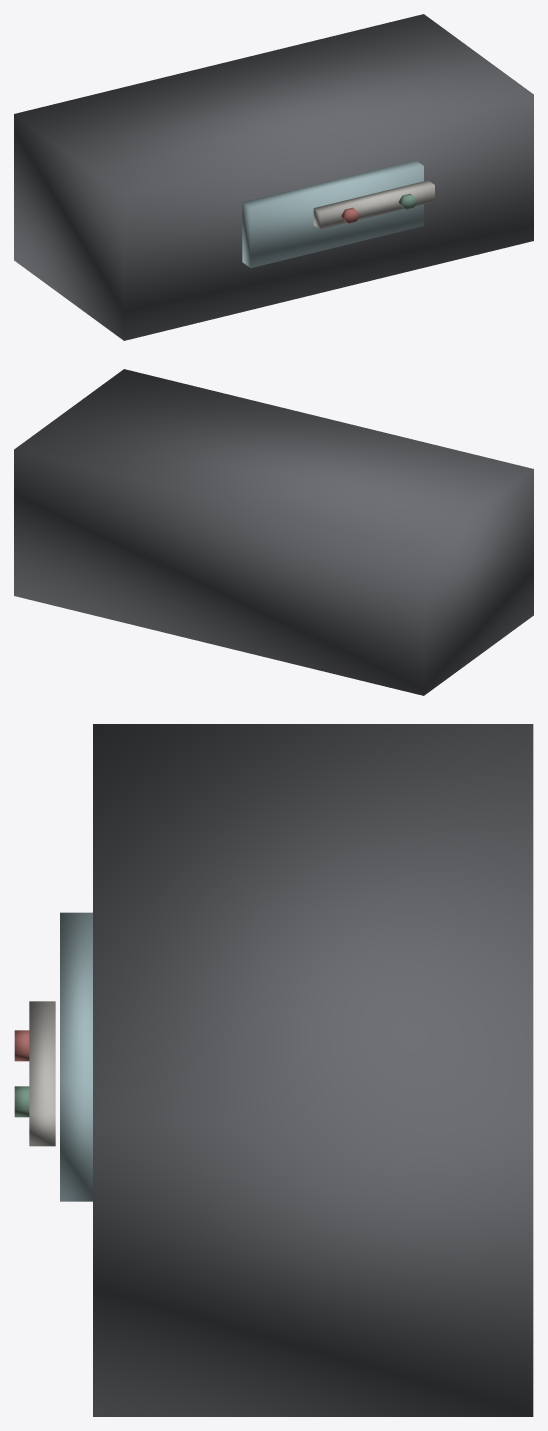
File: cassette_deck__wide.glb
The picture shows the model from 3 angles, top to bottom: view 1: azimuth 30°, elevation 25°; view 2: azimuth 150°, elevation 25°; view 3: azimuth 270°, elevation 25°; orthographic projection. The views are drawn at different scales.
Parts seen in each view (by area): view 1: world; view 2: world; view 3: world.
Boxes of the visible parts, x1,y1,x2,y2 form: world: (14, 14, 533, 340); world: (14, 369, 533, 695); world: (14, 724, 533, 1416).
Size of the model in its own units: 0.6448 by 0.22 by 0.3535.
